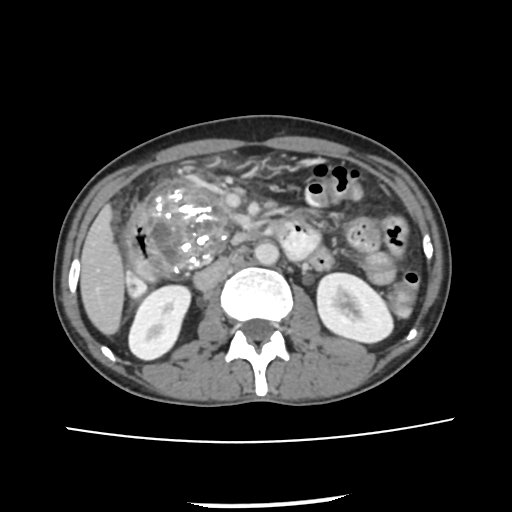aorta: (253, 240, 281, 267)
